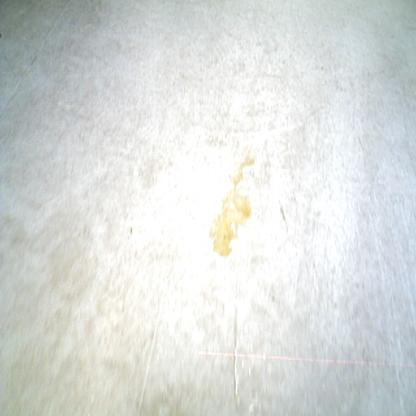liquid: (208, 188, 252, 256), (233, 336, 267, 416), (132, 380, 190, 416), (228, 150, 256, 188)
mark: (29, 53, 39, 67), (280, 205, 286, 221), (130, 226, 134, 235)
